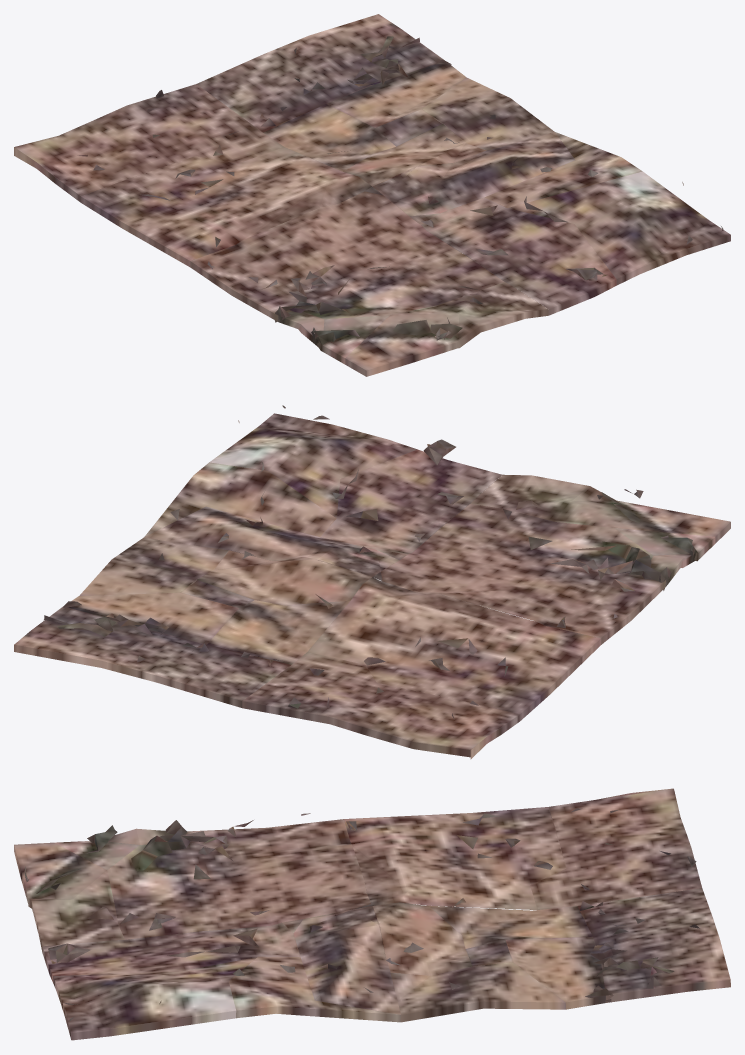
3 renders of one model, top to bottom at view 1: azimuth 30°, elevation 25°; view 2: azimuth 150°, elevation 25°; view 3: azimuth 270°, elevation 25°, orthographic. The views are drawn at different scales.
Parts seen in each view (by area): view 1: Mesh_0; view 2: Mesh_0; view 3: Mesh_0.
Part boxes in pixels (x1,y1,x2,y2): Mesh_0: (14, 14, 730, 376); Mesh_0: (14, 405, 730, 759); Mesh_0: (14, 788, 730, 1040).
Bounding box in the file's own units: 532 × 62 × 659.
1 material, 1 textured.
